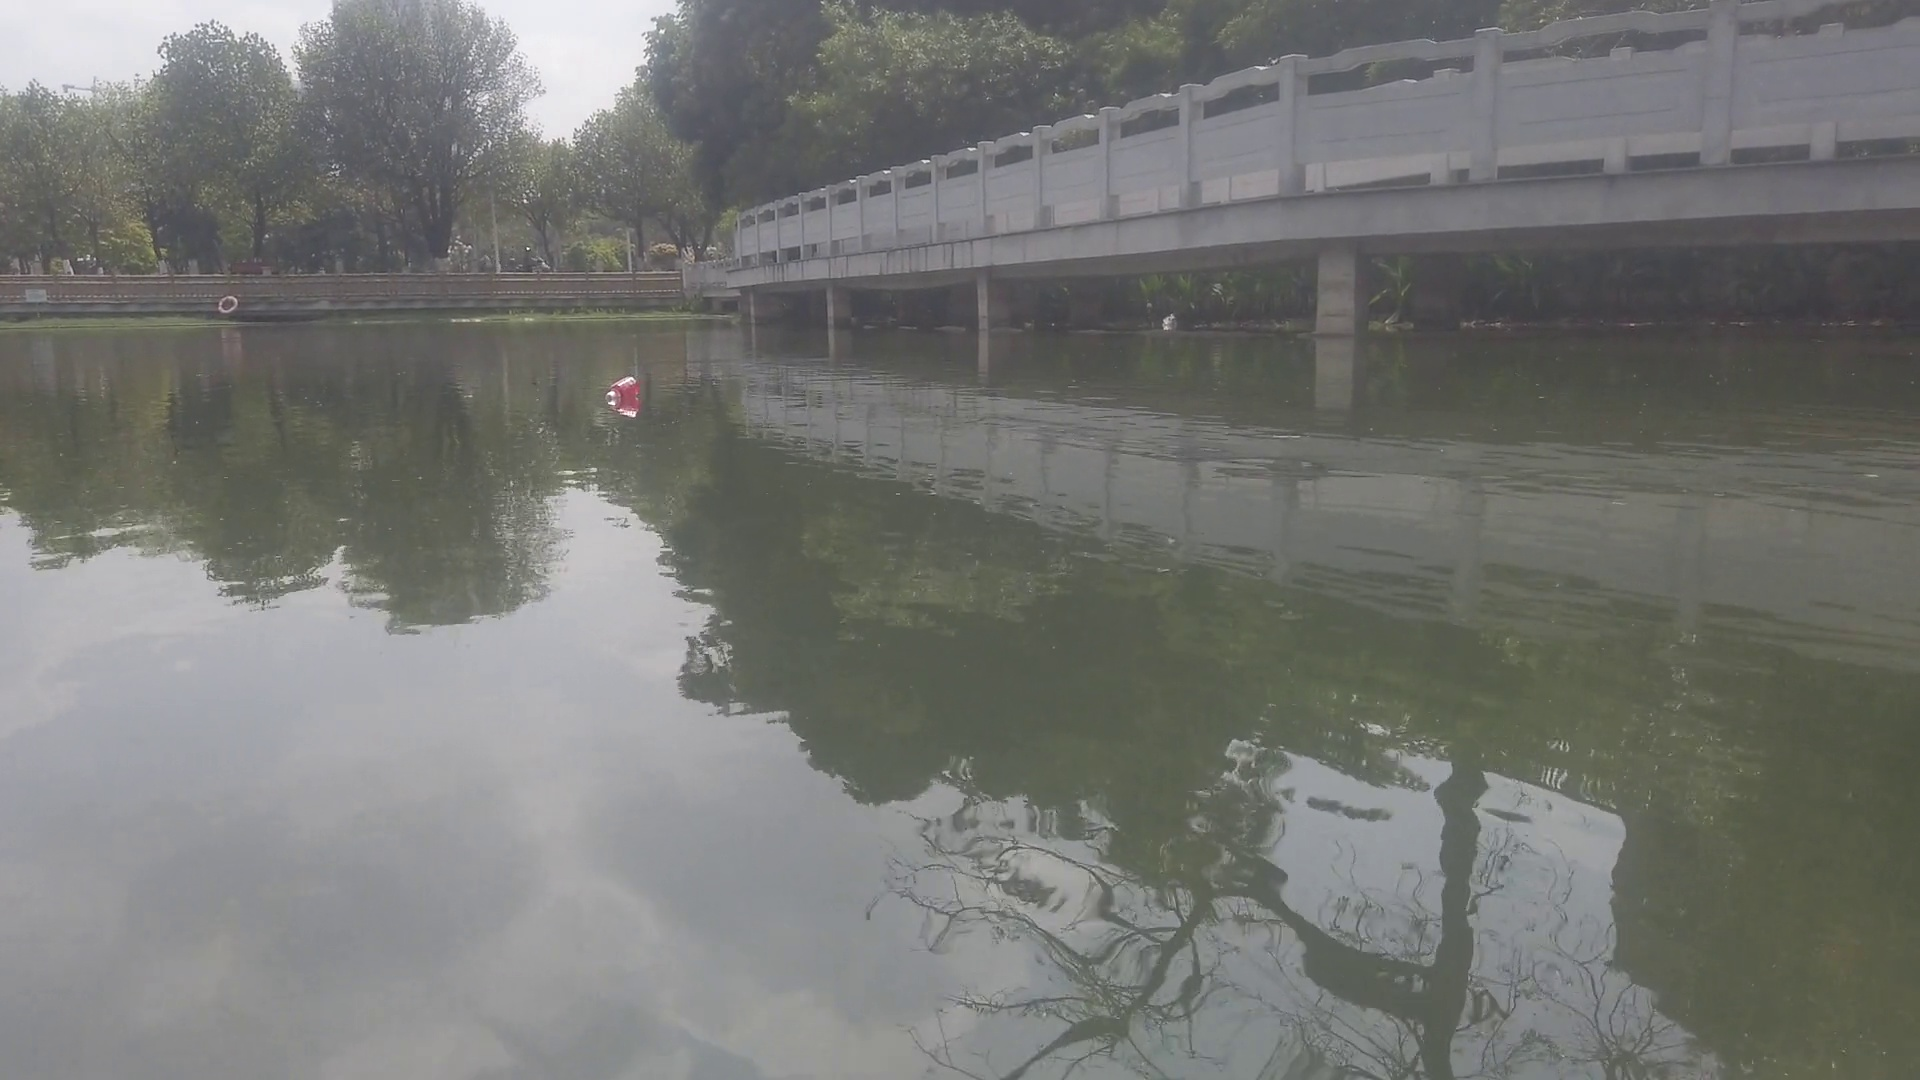bottle: (603, 375, 645, 406)
